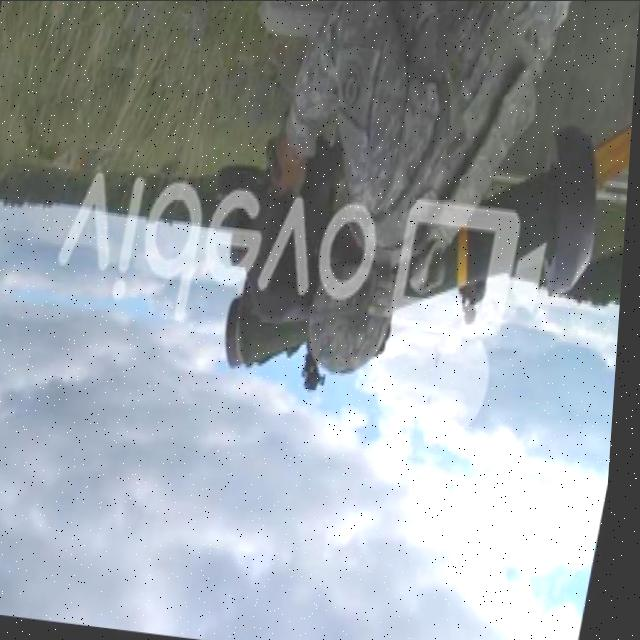rocket: (226, 92, 611, 408)
